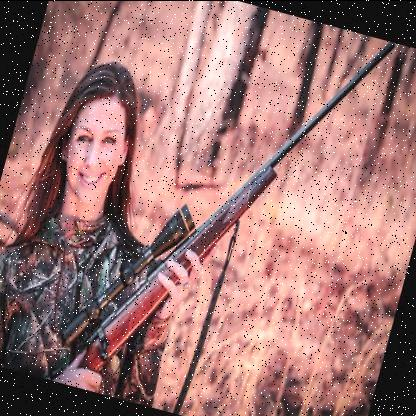rifle: (57, 0, 404, 416)
